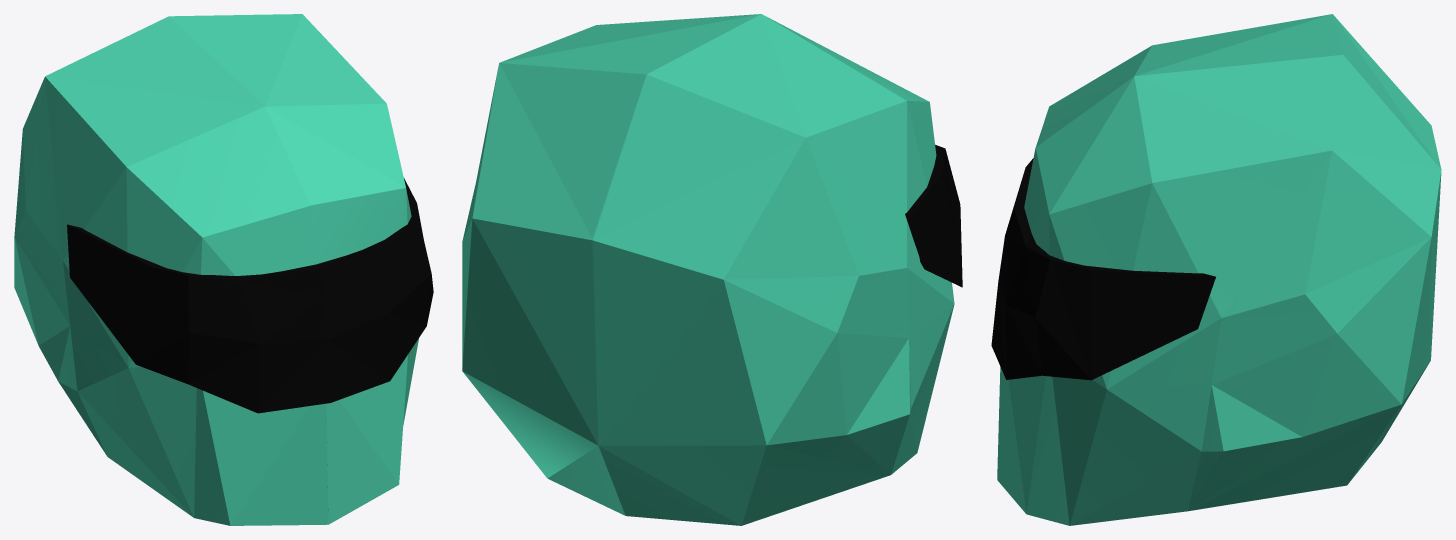
The model's file is helmet.Miami.fbx.
3 renders of one model, left to right at view 1: azimuth 30°, elevation 25°; view 2: azimuth 150°, elevation 25°; view 3: azimuth 270°, elevation 25°, orthographic. The views are drawn at different scales.
Visible parts, largest first — view 1: helmet, visor; view 2: helmet, visor; view 3: helmet, visor.
Part boxes in pixels (x1,y1,x2,y2): helmet: (14, 14, 418, 525); visor: (67, 178, 433, 413); helmet: (462, 14, 954, 525); visor: (905, 144, 962, 287); helmet: (997, 14, 1441, 525); visor: (991, 158, 1215, 380).
Bounding box in the file's own units: 27.67 × 31.25 × 29.96.
